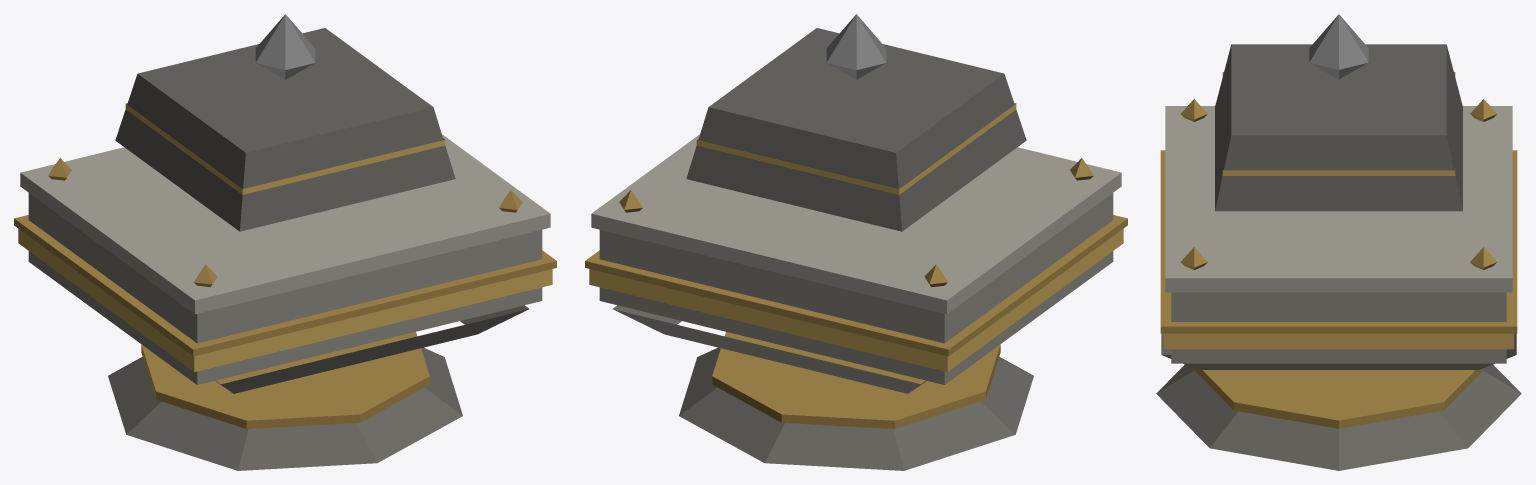
File: supply-astro.obj
The picture shows the model from 3 angles, left to right: view 1: azimuth 30°, elevation 25°; view 2: azimuth 150°, elevation 25°; view 3: azimuth 270°, elevation 25°; orthographic projection.
Parts seen in each view (by area): view 1: supply-astro; view 2: supply-astro; view 3: supply-astro.
Boxes of the visible parts, bbox=[...] form: supply-astro: bbox=[14, 14, 556, 470]; supply-astro: bbox=[585, 14, 1127, 470]; supply-astro: bbox=[1156, 14, 1521, 470].
Size of the model in its own units: 5.48 by 5.5 by 4.8.
